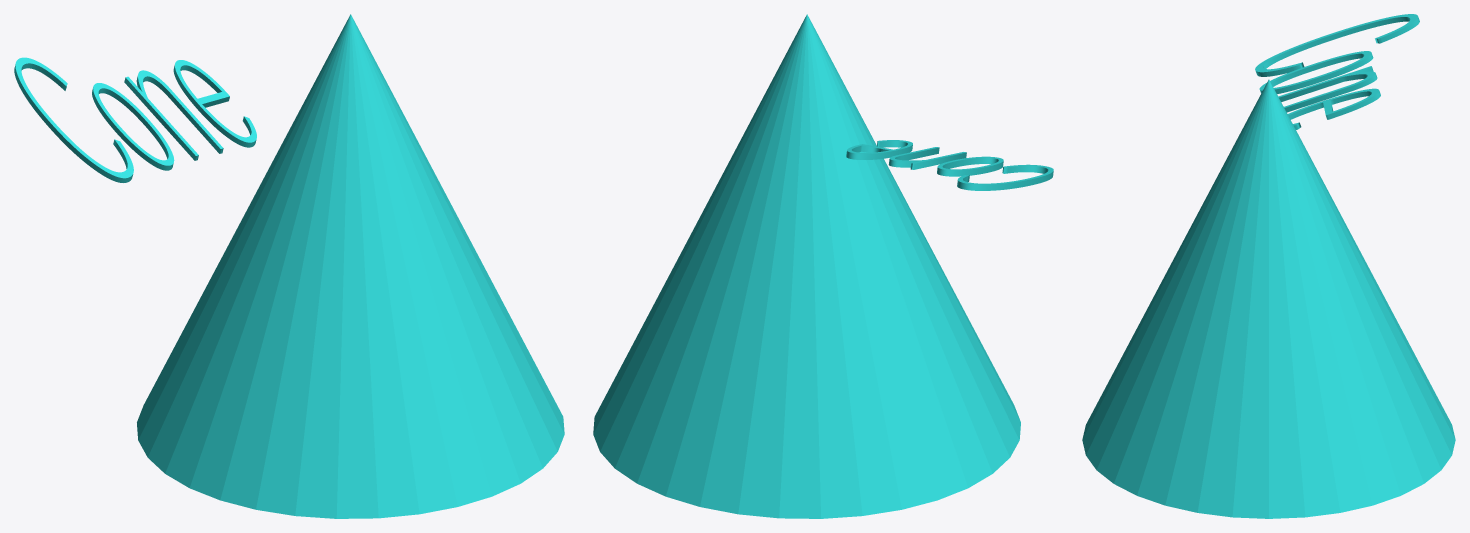
The model's file is conetext.gltf.
3 views of the same model, side by side, from view 1: azimuth 30°, elevation 25°; view 2: azimuth 150°, elevation 25°; view 3: azimuth 270°, elevation 25° (orthographic). The views are drawn at different scales.
Visible parts, largest first — view 1: Cone, Text; view 2: Cone, Text; view 3: Cone, Text.
Part boxes in pixels (bbox=[...]): Cone: bbox=[137, 14, 564, 518]; Text: bbox=[14, 57, 256, 182]; Cone: bbox=[593, 14, 1020, 518]; Text: bbox=[846, 140, 1053, 190]; Cone: bbox=[1082, 79, 1455, 518]; Text: bbox=[1255, 14, 1419, 129].
Bounding box in the file's own units: 181 × 160 × 150.
